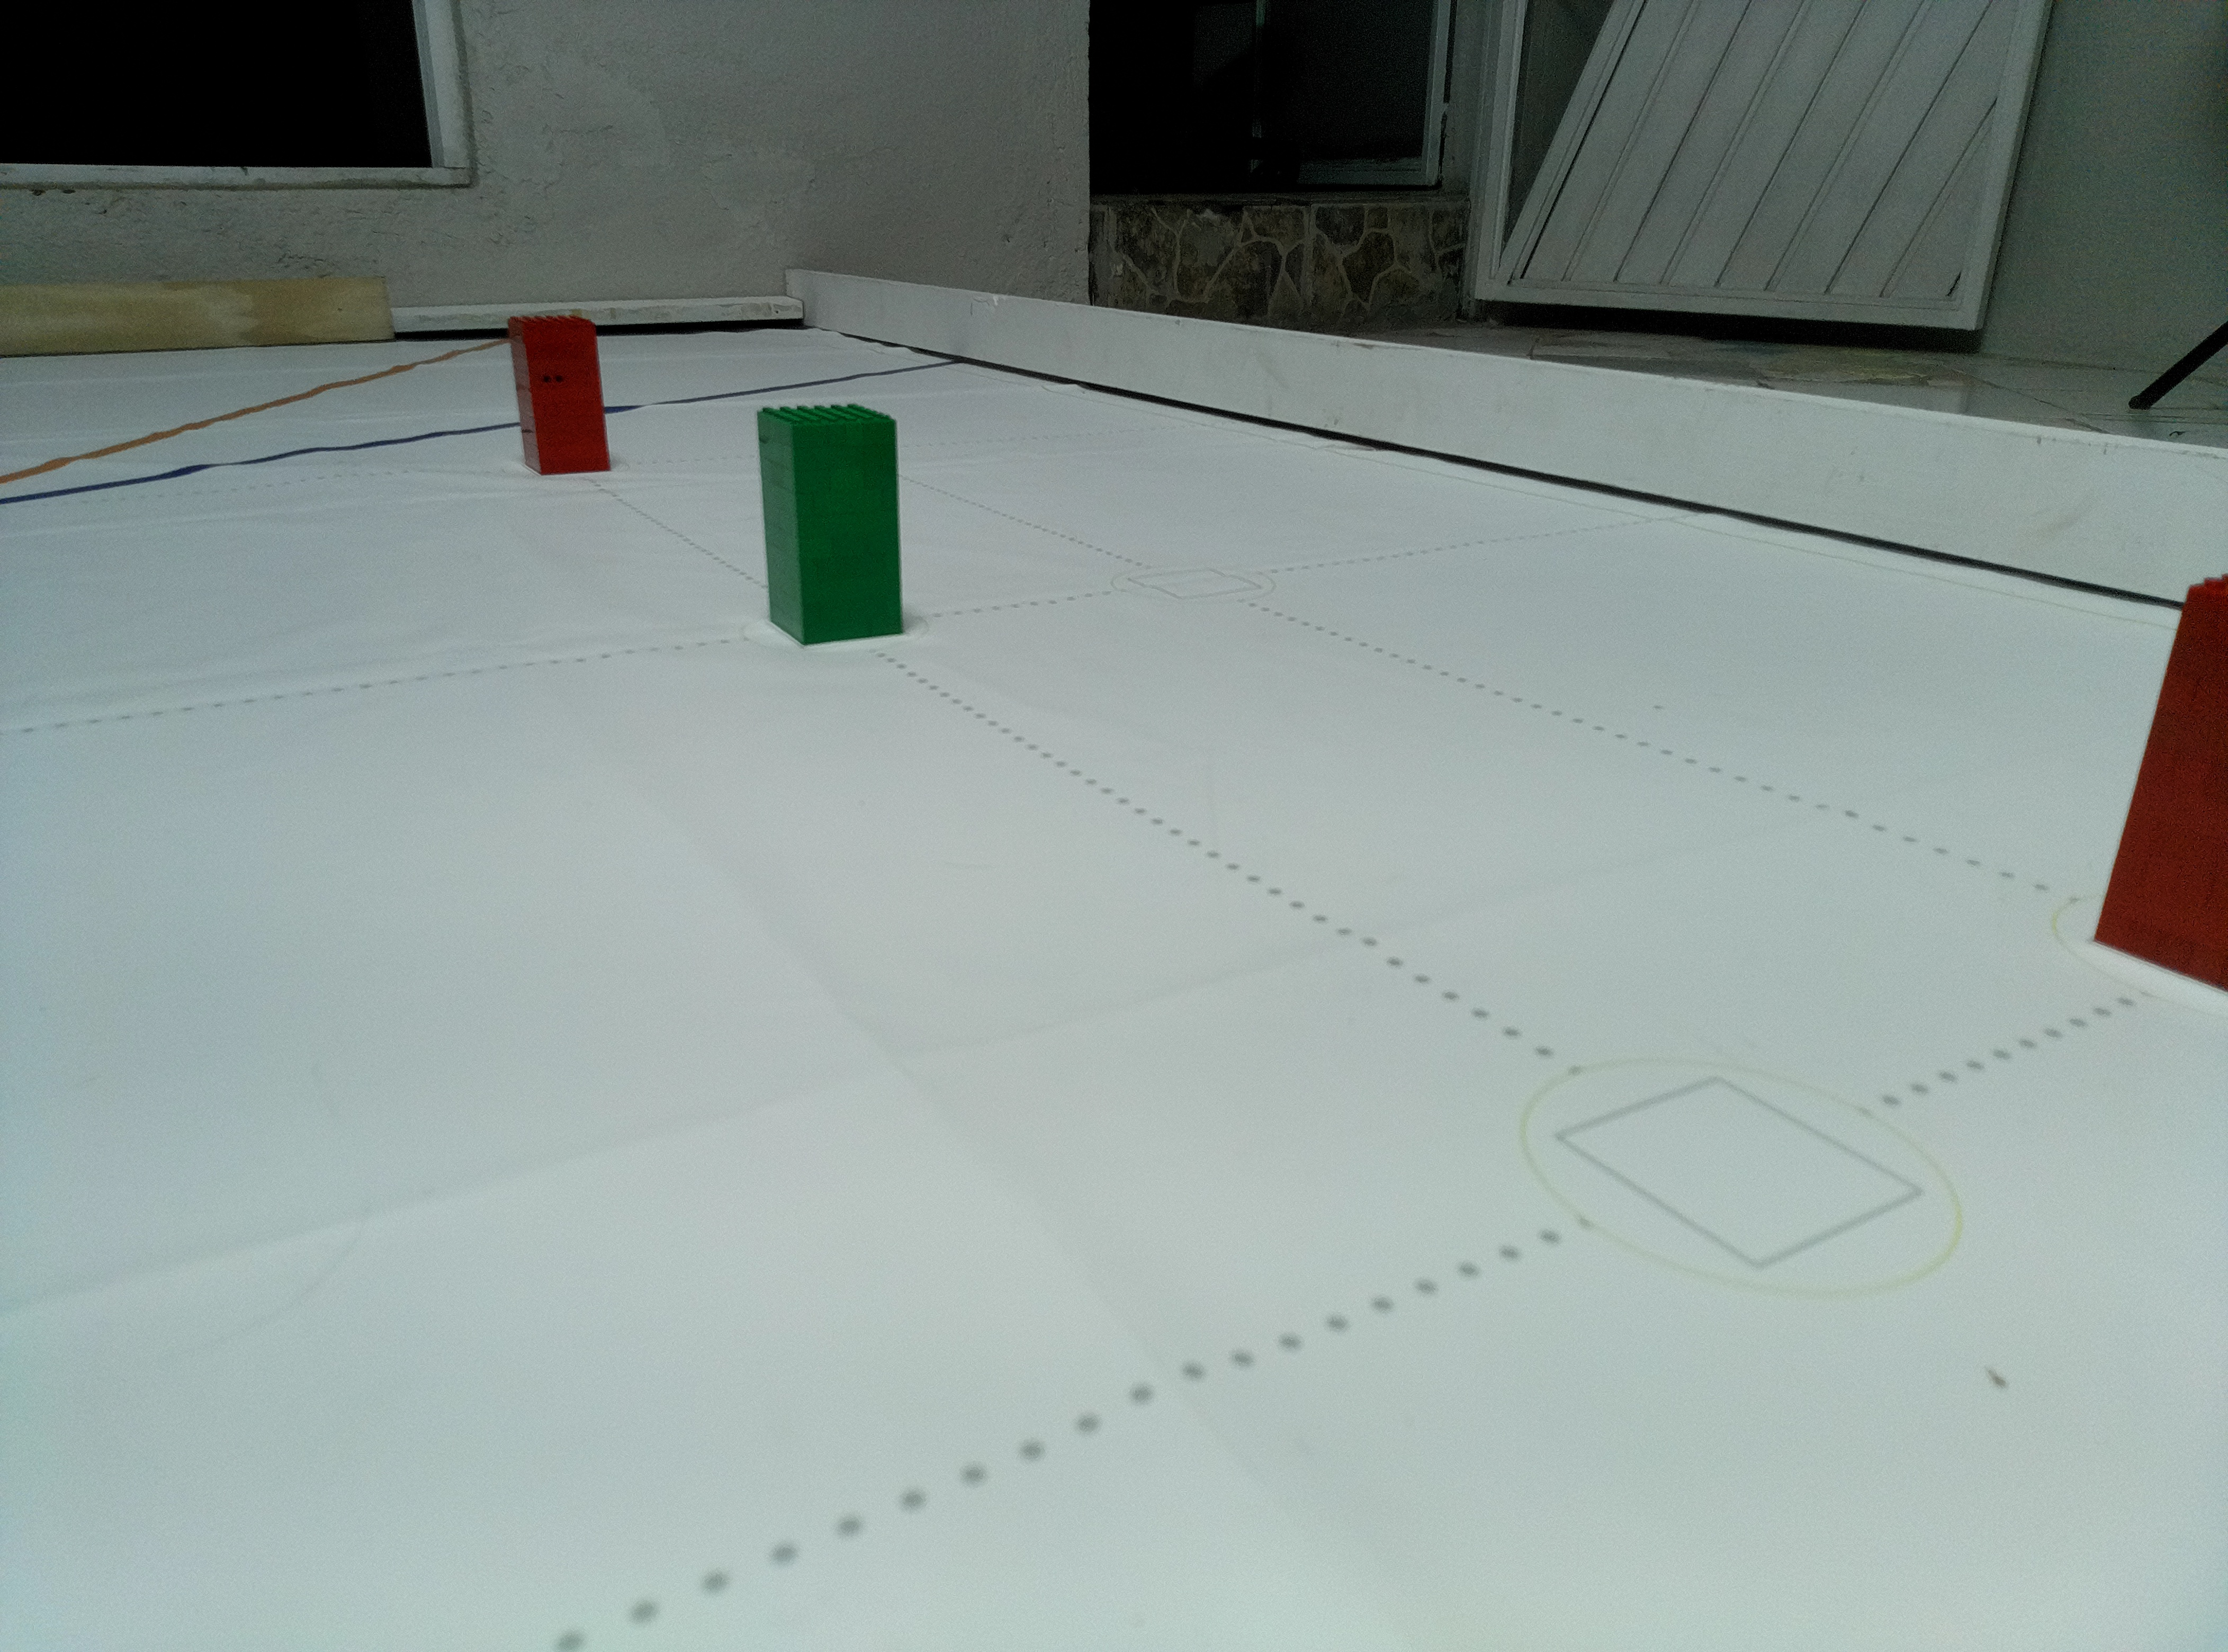greenbox: (753, 404, 908, 647)
redbox: (2087, 566, 2228, 996), (505, 314, 613, 477)
